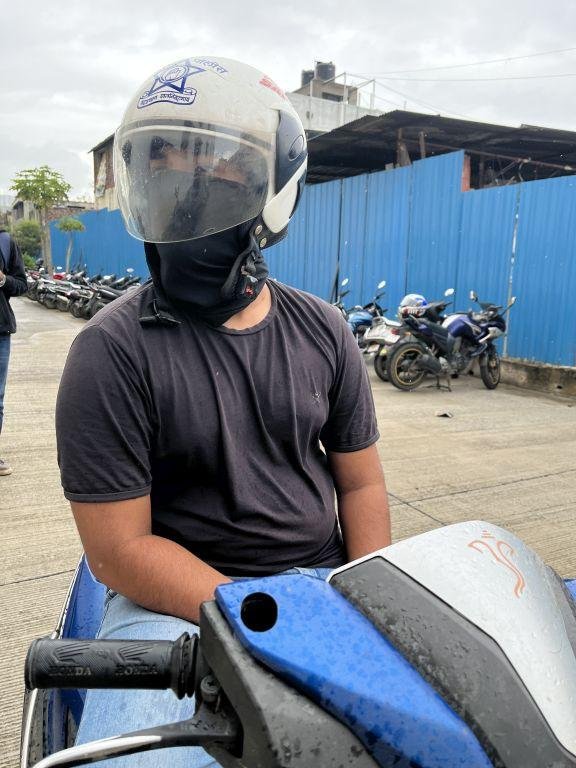helmet: (100, 39, 322, 279)
